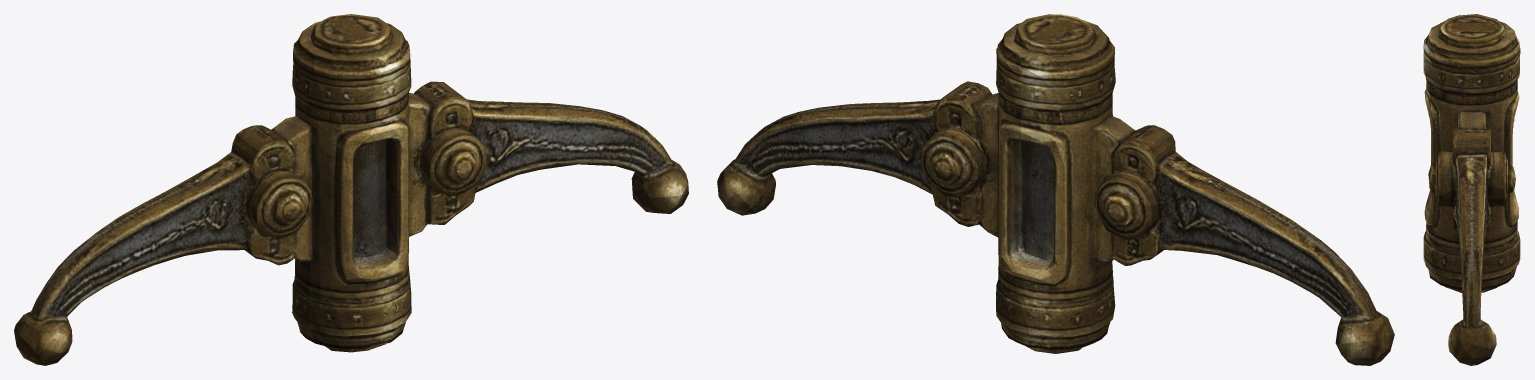
3 renders of one model, left to right at view 1: azimuth 30°, elevation 25°; view 2: azimuth 150°, elevation 25°; view 3: azimuth 270°, elevation 25°, orthographic. The views are drawn at different scales.
Visible parts, largest first — view 1: geometry_0; view 2: geometry_0; view 3: geometry_0.
Boxes of the visible parts, box(x1,y1,x2,y2) form: geometry_0: box(14, 14, 688, 365); geometry_0: box(717, 14, 1394, 365); geometry_0: box(1423, 14, 1520, 365).
Bounding box in the file's own units: 1 × 0.4409 × 0.1534.
1 material, 1 textured.
